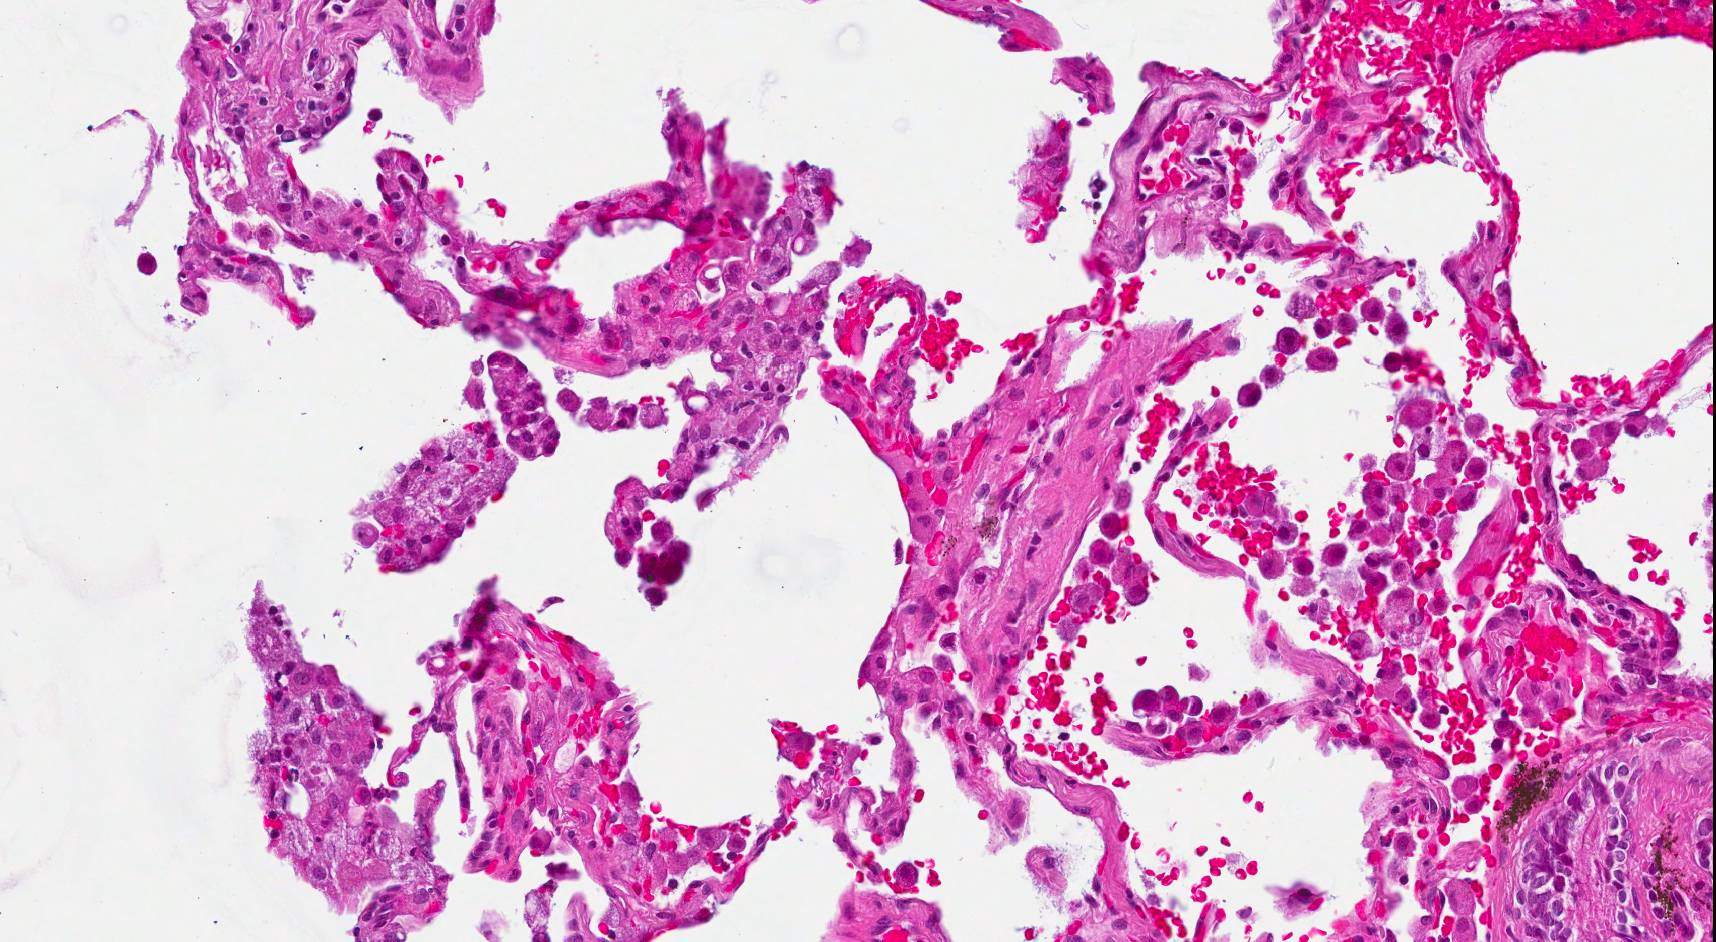stas: (485, 348, 567, 466)
